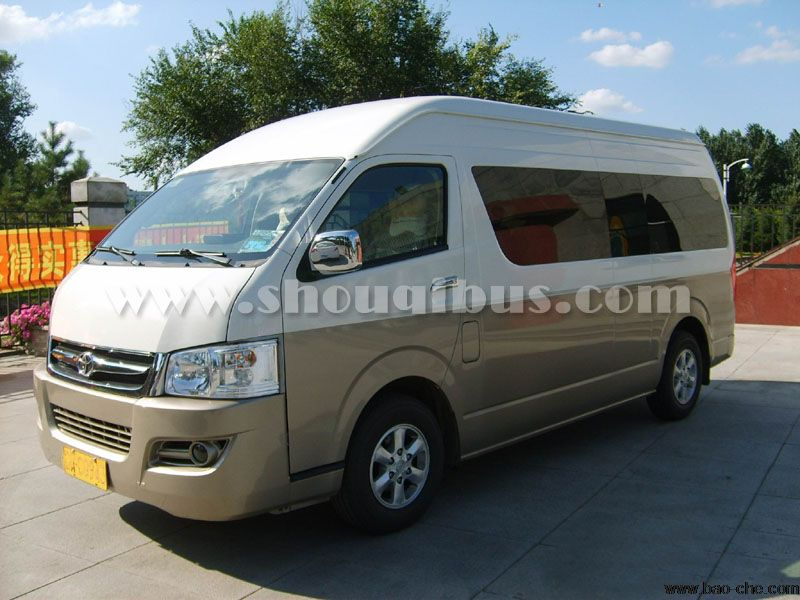midcar: (45, 89, 735, 508)
